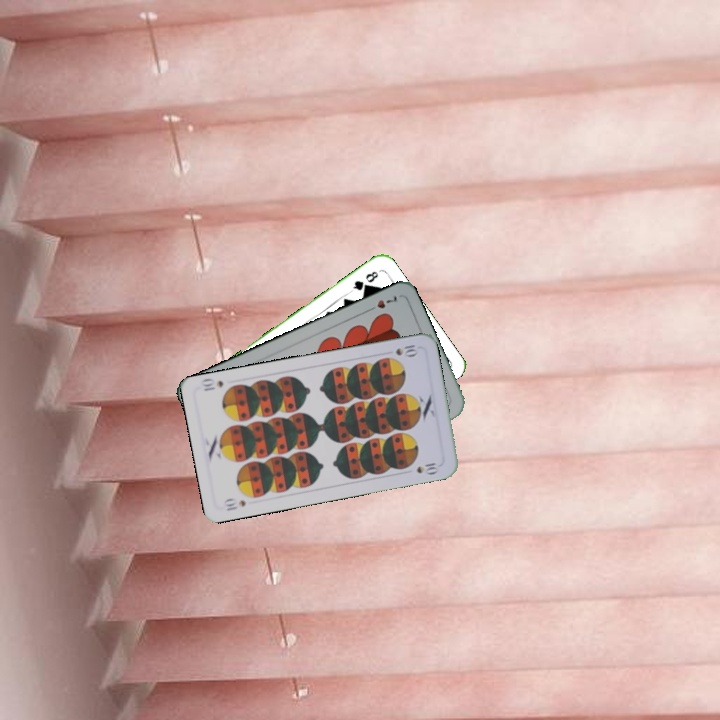G8: (346, 267, 381, 295)
H7: (363, 291, 401, 314)
S10: (392, 340, 421, 359), (220, 494, 248, 513)
